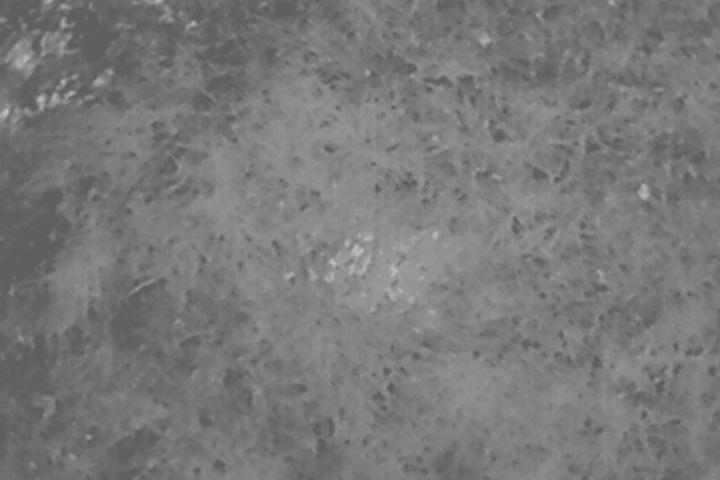landmine: (317, 223, 401, 287)
